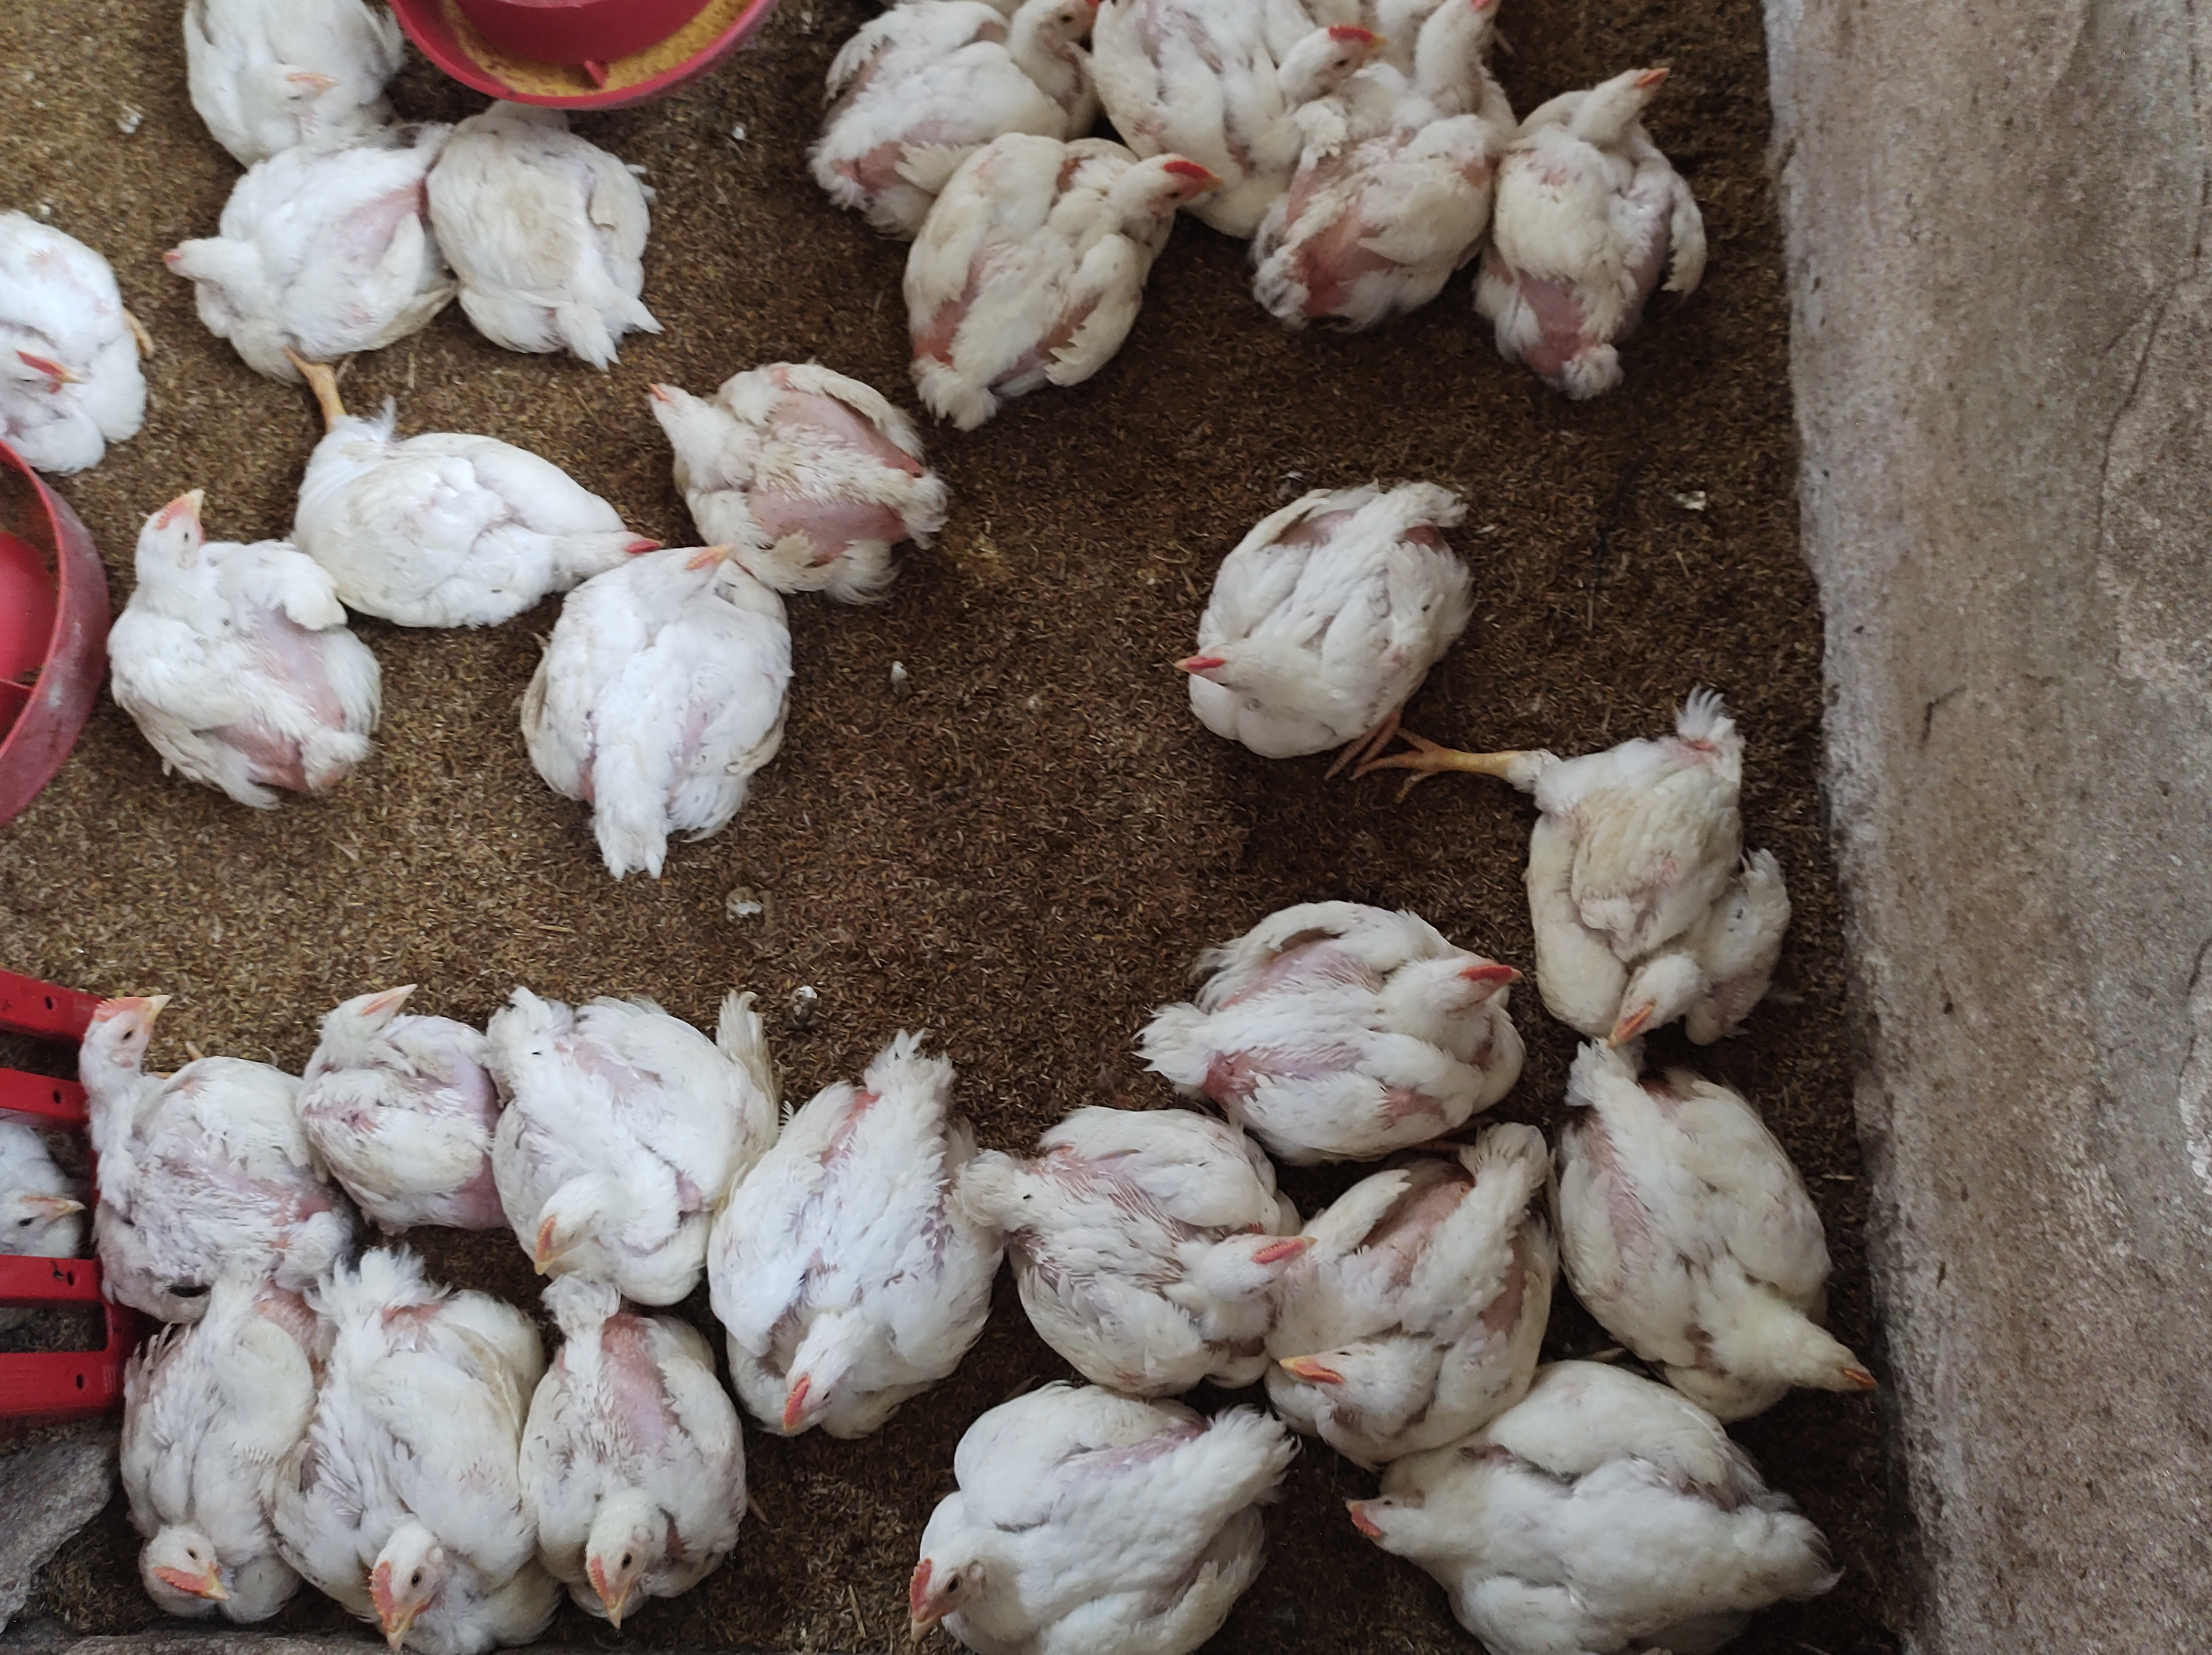Pollos: (1374, 1412, 1880, 1652), (715, 1041, 1000, 1452), (261, 1259, 555, 1655), (882, 1387, 1309, 1655), (876, 137, 1223, 443), (475, 951, 776, 1302), (85, 487, 405, 801), (1256, 3, 1542, 344), (522, 1307, 798, 1652), (1153, 894, 1523, 1147), (972, 1095, 1299, 1375), (61, 977, 344, 1295), (1303, 1111, 1560, 1459), (1563, 1074, 1861, 1375), (1163, 483, 1487, 758), (297, 391, 652, 628), (1544, 734, 1821, 1034), (536, 563, 793, 881), (1502, 66, 1749, 396), (162, 127, 456, 388), (631, 360, 943, 595), (445, 73, 675, 360), (122, 1241, 285, 1641), (304, 968, 499, 1248), (798, 0, 1089, 184), (0, 184, 155, 497), (170, 0, 409, 177), (0, 1121, 118, 1285), (1229, 3, 1374, 116)
